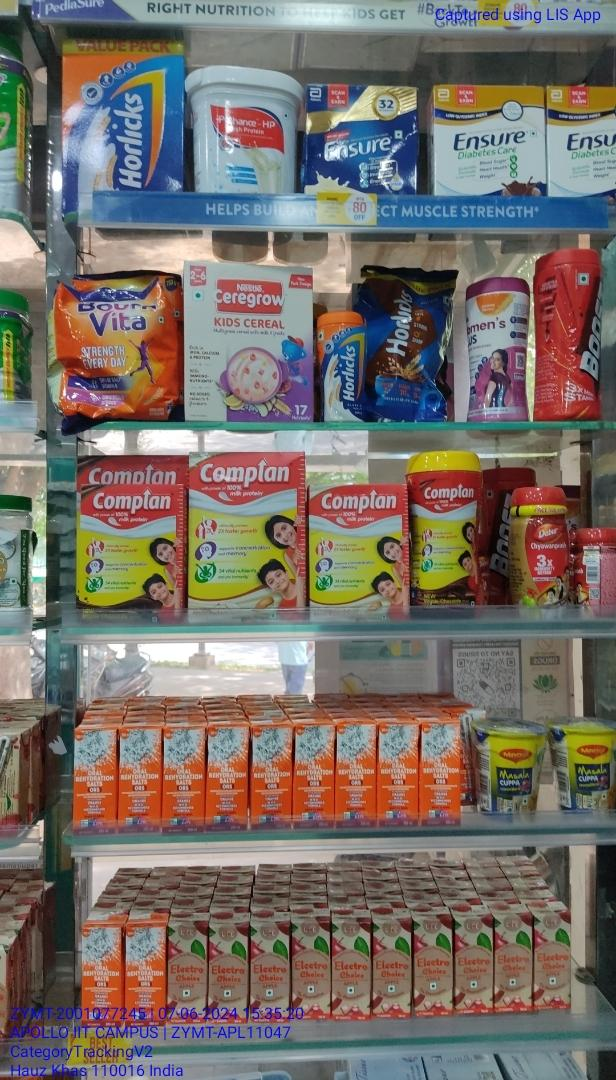BOURN_VITA_500_G_POUCH: (56, 284, 178, 423)
COMPLAN_CHOCOLATE_500_GMS_JAR: (411, 450, 485, 621)
COMPLAN_KESAR_BADAM_200_GMS_PACK: (311, 483, 410, 624)
COMPLAN_KESAR_BADAM_500_GMS_PACK: (188, 451, 307, 623)
HORLICK_CHOCOLATE_200_G_JAR: (318, 313, 370, 428)
HORLICK_CHOCOLATE_750_G_POUCH: (373, 264, 455, 425)
HORLICK_CLASSIC_MALT_500_G_PACK: (62, 30, 180, 200)
